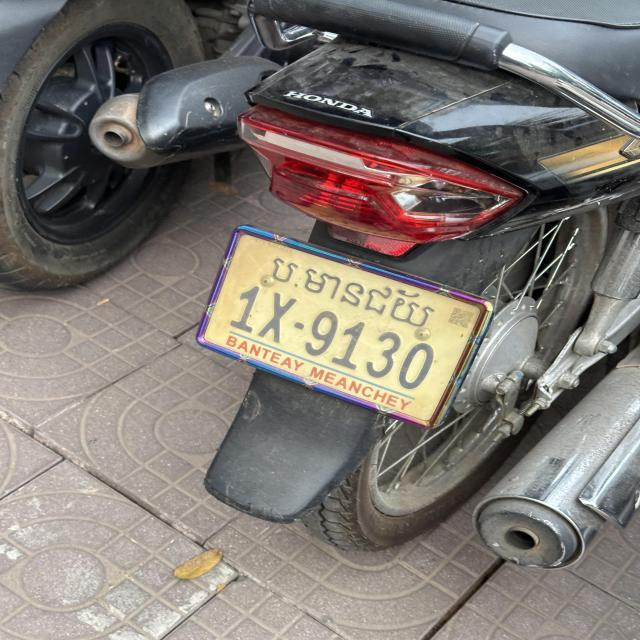Banteay_Meanchey: (272, 256, 435, 328)
